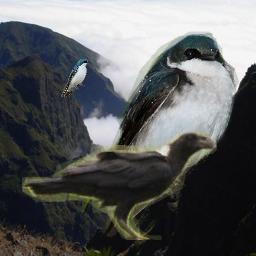Crow: (22, 131, 217, 240)
Swallow: (82, 27, 240, 237), (61, 59, 89, 97)
